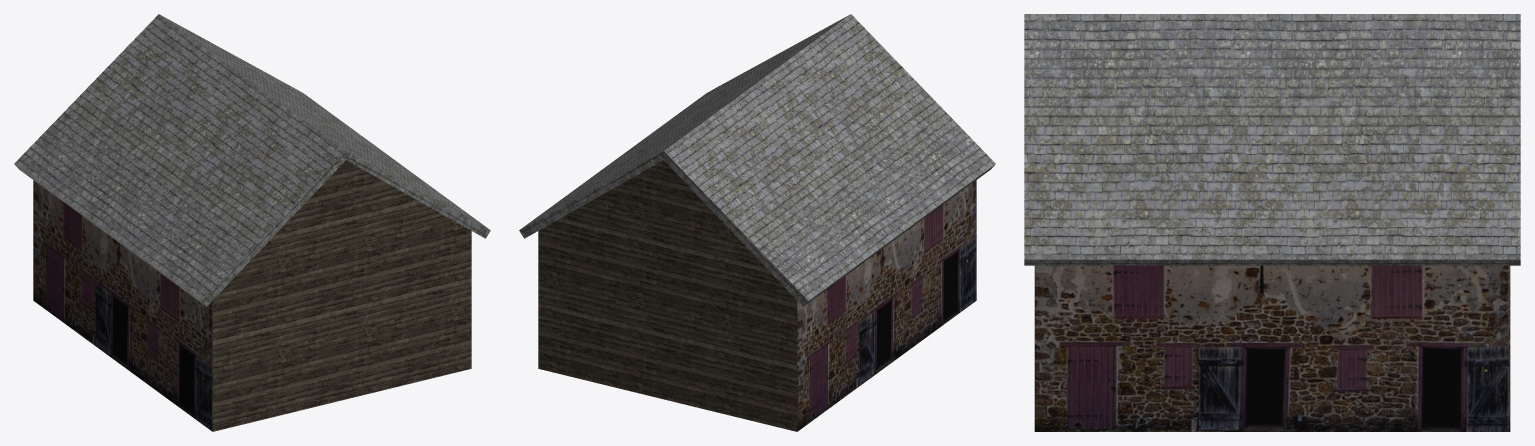
The model's file is House3.fbx.
3 renders of one model, left to right at view 1: azimuth 30°, elevation 25°; view 2: azimuth 150°, elevation 25°; view 3: azimuth 270°, elevation 25°, orthographic. The views are drawn at different scales.
Parts seen in each view (by area): view 1: House3; view 2: House3; view 3: House3.
Boxes of the visible parts, x1=… form: House3: x1=14, y1=14, x2=490, y2=431; House3: x1=519, y1=14, x2=995, y2=431; House3: x1=1024, y1=14, x2=1520, y2=431.
Size of the model in its own units: 671 by 559 by 752.
3 materials, 3 textured.
